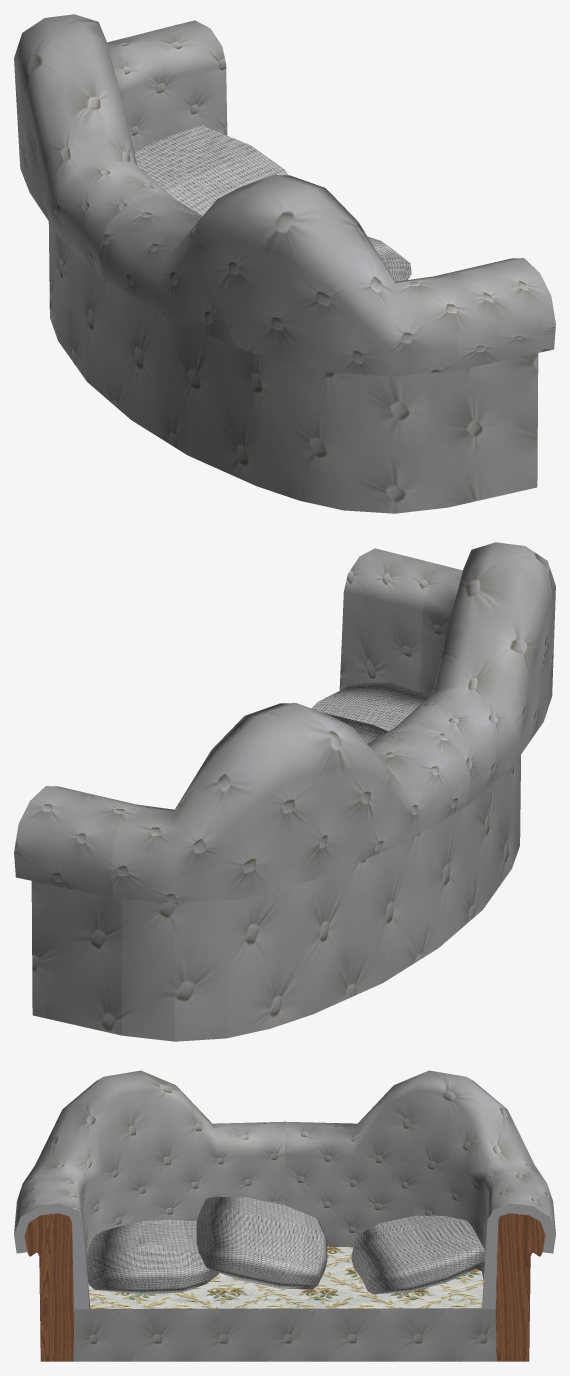
Rendered from Yuchen_VSofa_Master (1).fbx.
3 views of the same model, one above another, from view 1: azimuth 30°, elevation 25°; view 2: azimuth 150°, elevation 25°; view 3: azimuth 270°, elevation 25° (orthographic). The views are drawn at different scales.
Visible parts, largest first — view 1: pPlane7, pCube11, pCube10; view 2: pPlane7, pCube4; view 3: pPlane7, pCube10, pCube11, pCube4.
Boxes of the visible parts, x1,y1,x2,y2 form: pPlane7: [14, 14, 555, 513]; pCube11: [134, 125, 287, 215]; pCube10: [367, 236, 411, 281]; pPlane7: [14, 542, 555, 1041]; pCube4: [311, 682, 429, 731]; pPlane7: [14, 1070, 555, 1361]; pCube10: [196, 1196, 327, 1289]; pCube11: [351, 1215, 485, 1294]; pCube4: [86, 1219, 219, 1294].
Size of the model in its own units: 7.17 by 7.54 by 16.96.
